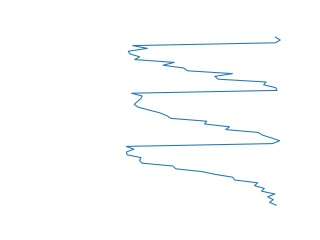distributaryMouthBar: (123, 34, 284, 210)
